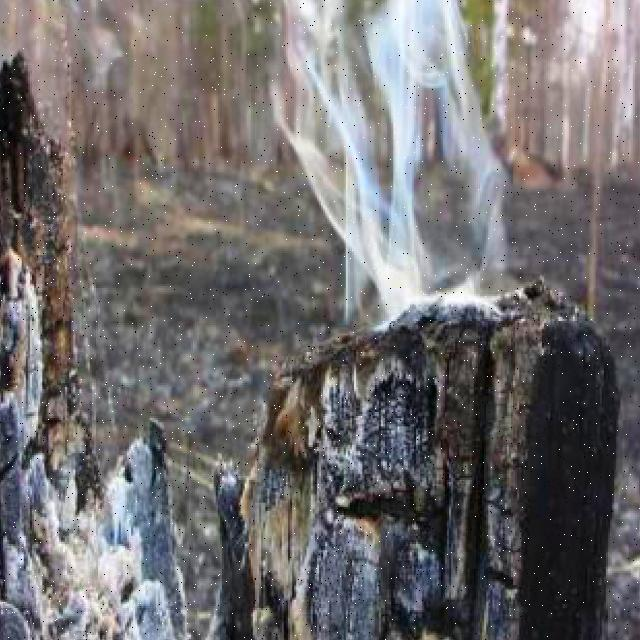smoke: (272, 0, 532, 340)
